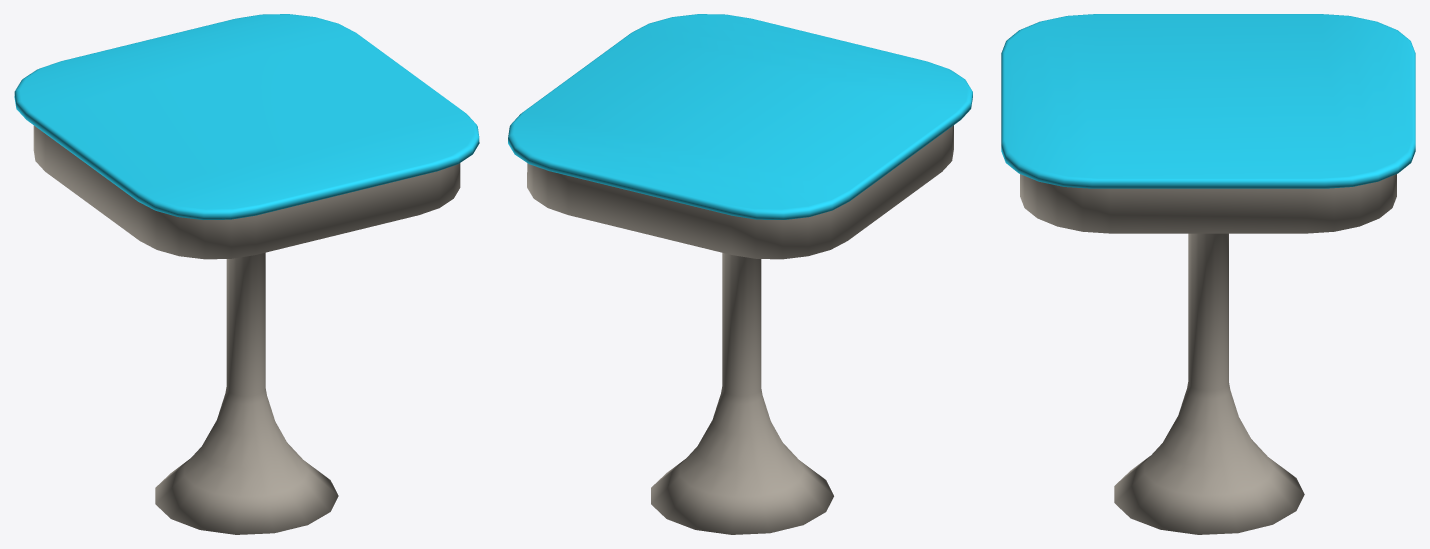
The model's file is small_table.fbx.
The picture shows the model from 3 angles, left to right: view 1: azimuth 30°, elevation 25°; view 2: azimuth 150°, elevation 25°; view 3: azimuth 270°, elevation 25°; orthographic projection. The views are drawn at different scales.
Parts seen in each view (by area): view 1: TableBlue_Square; view 2: TableBlue_Square; view 3: TableBlue_Square.
Part boxes in pixels (<box>): TableBlue_Square: <box>14,14,479,534</box>; TableBlue_Square: <box>508,14,972,534</box>; TableBlue_Square: <box>1001,14,1415,534</box>.
Size of the model in its own units: 12.77 by 14.21 by 13.38.
